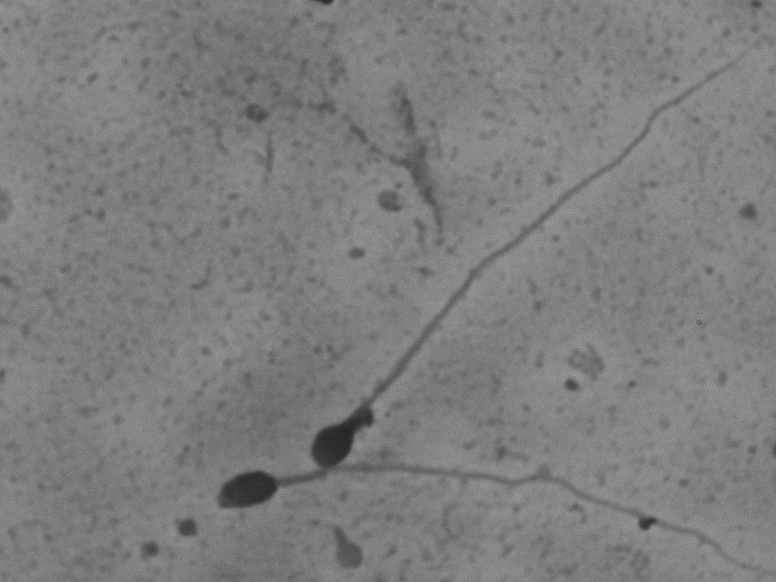Normal: (297, 35, 771, 471), (201, 447, 763, 579)
